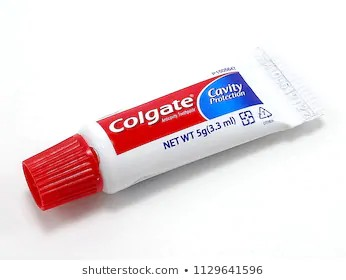colgate-small: (21, 48, 318, 210)
